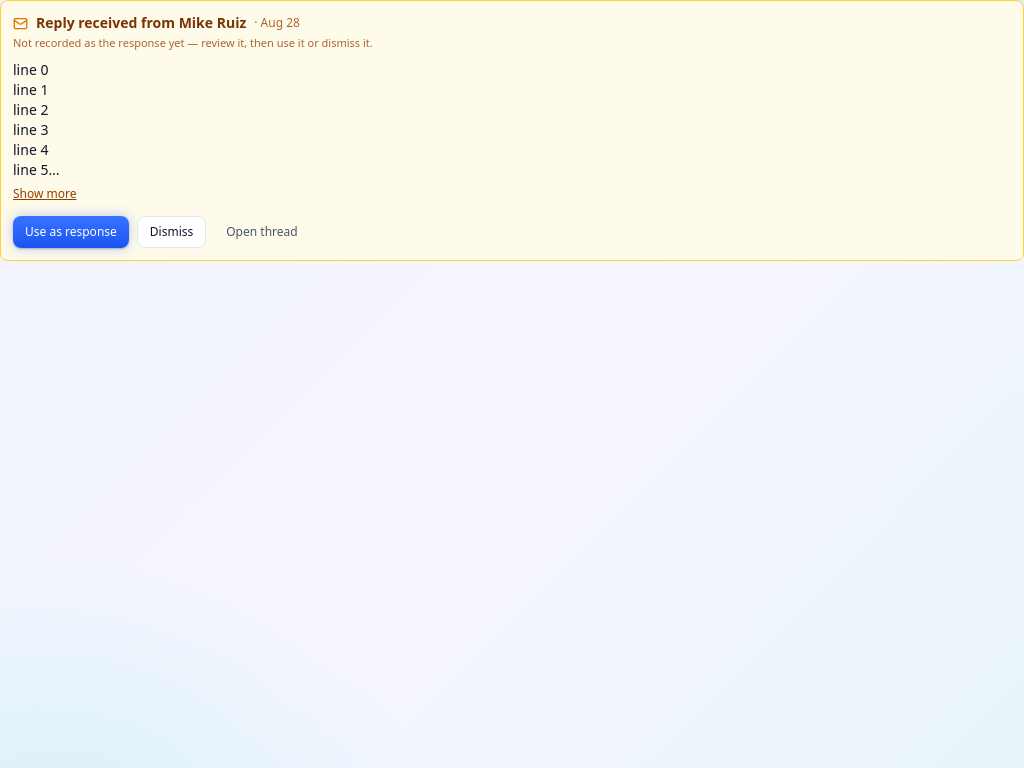
PendingReplyBanner › collapses a long reply behind Show more
The image size is (1024, 768).
Click the button "Show more".
click(45, 194)  # box top-left (13, 186), bottom-right (76, 202)
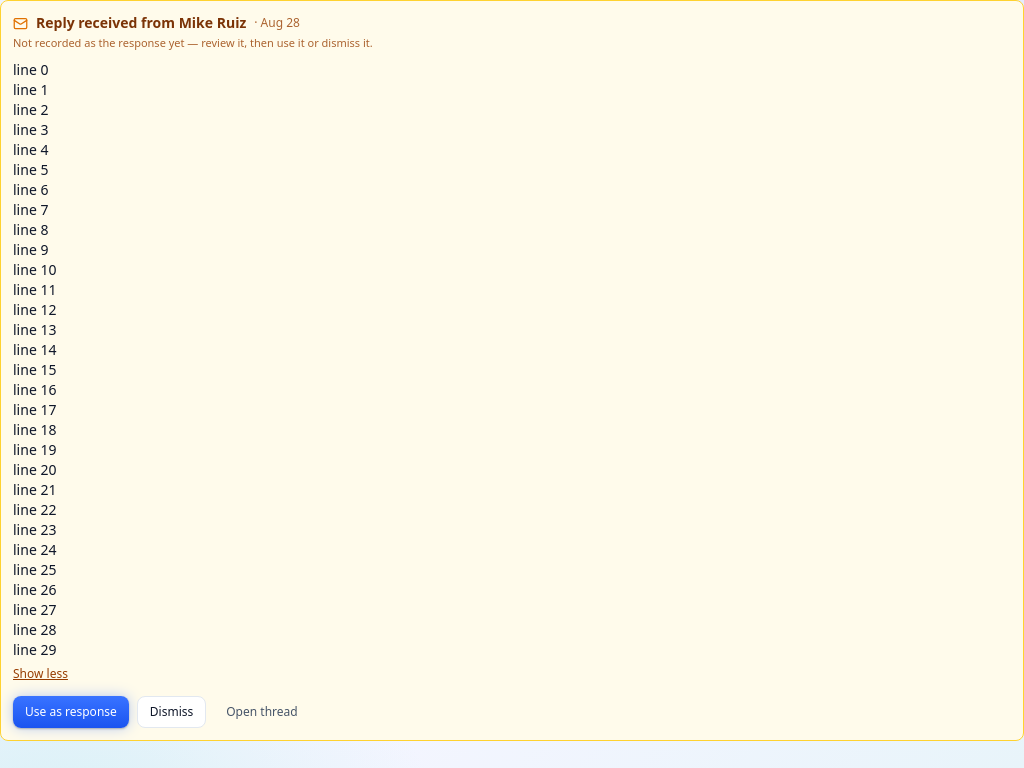
Expected: the button "Show less" is shown, top-left (13, 666), bottom-right (68, 682)
